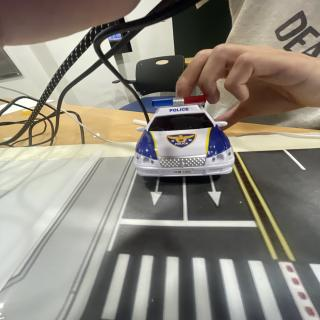Police_car: (134, 96, 234, 177)
